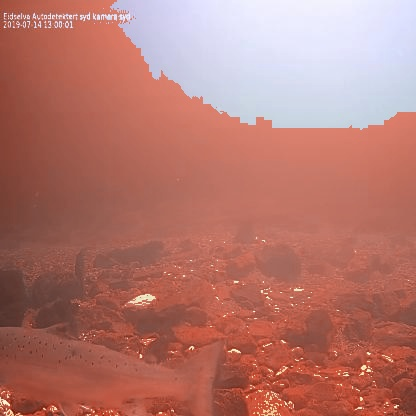salmon: (0, 320, 228, 416)
